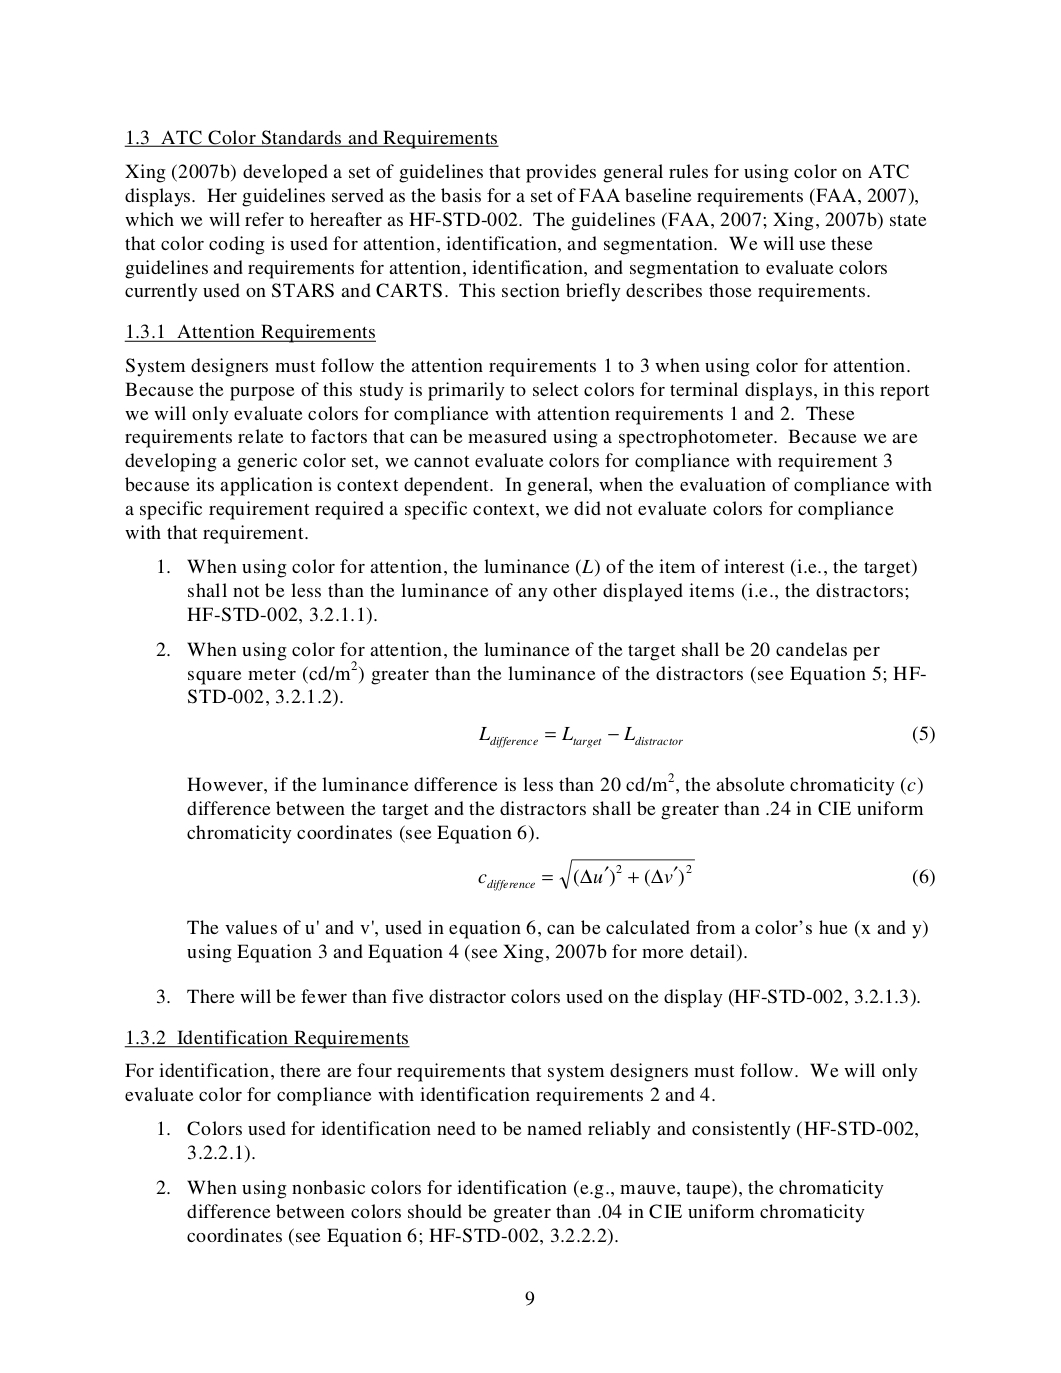formula: (478, 858, 934, 890), (479, 726, 934, 748)
